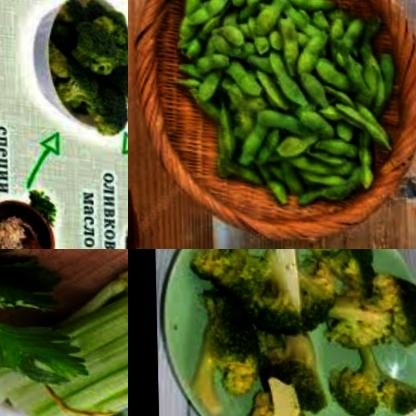beans: (165, 0, 378, 207)
broccoli: (181, 252, 263, 402), (53, 0, 128, 138), (316, 317, 416, 416), (243, 317, 331, 416), (323, 272, 416, 334), (301, 249, 381, 296), (186, 249, 277, 288)
celery: (0, 249, 128, 416)
